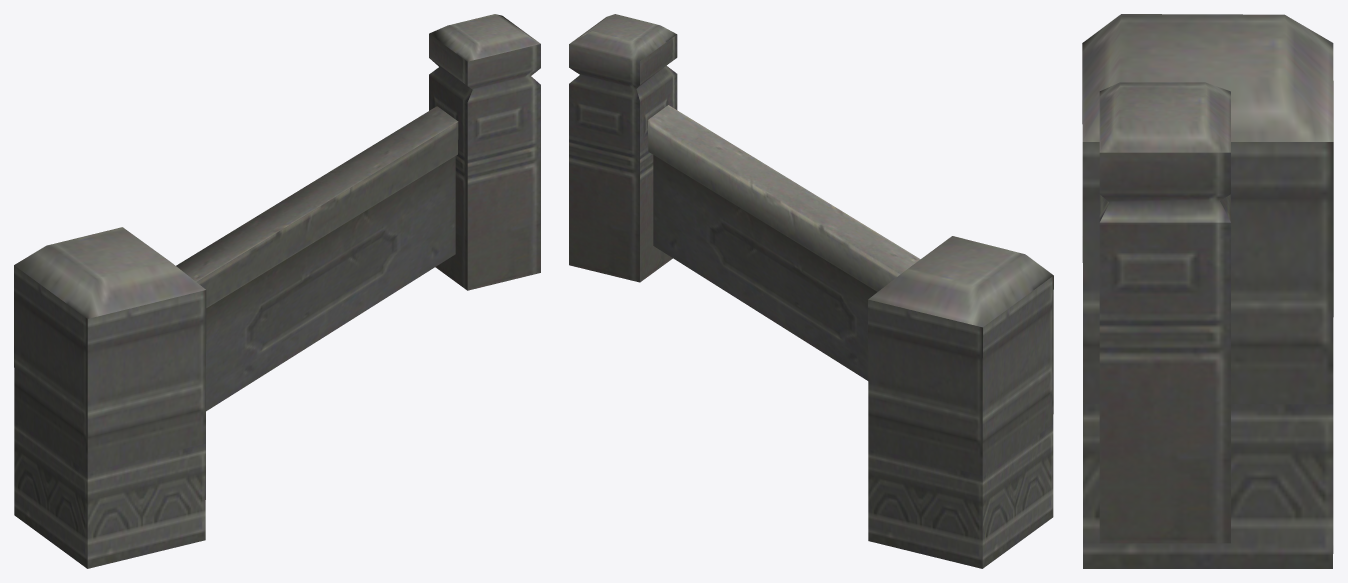
The model's file is bujian_06.fbx.
3 renders of one model, left to right at view 1: azimuth 30°, elevation 25°; view 2: azimuth 150°, elevation 25°; view 3: azimuth 270°, elevation 25°, orthographic. The views are drawn at different scales.
Parts seen in each view (by area): view 1: pasted__polySurface4131; view 2: pasted__polySurface4131; view 3: pasted__polySurface4131.
Boxes of the visible parts, x1,y1,x2,y2 form: pasted__polySurface4131: [14, 14, 540, 568]; pasted__polySurface4131: [569, 14, 1053, 568]; pasted__polySurface4131: [1082, 14, 1333, 568].
Bounding box in the file's own units: 3.59 × 3.15 × 0.9994.
Materials: 1 (1 with a texture image).
